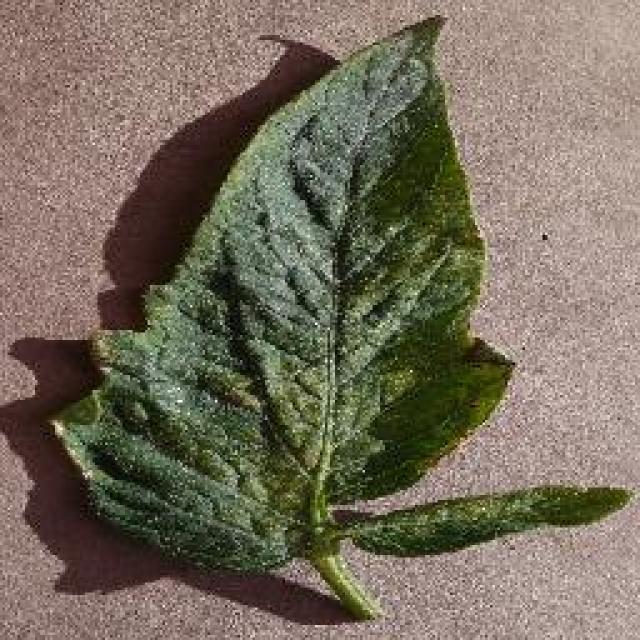Tomato spider mites leaf: (52, 17, 516, 576), (358, 483, 635, 560)
